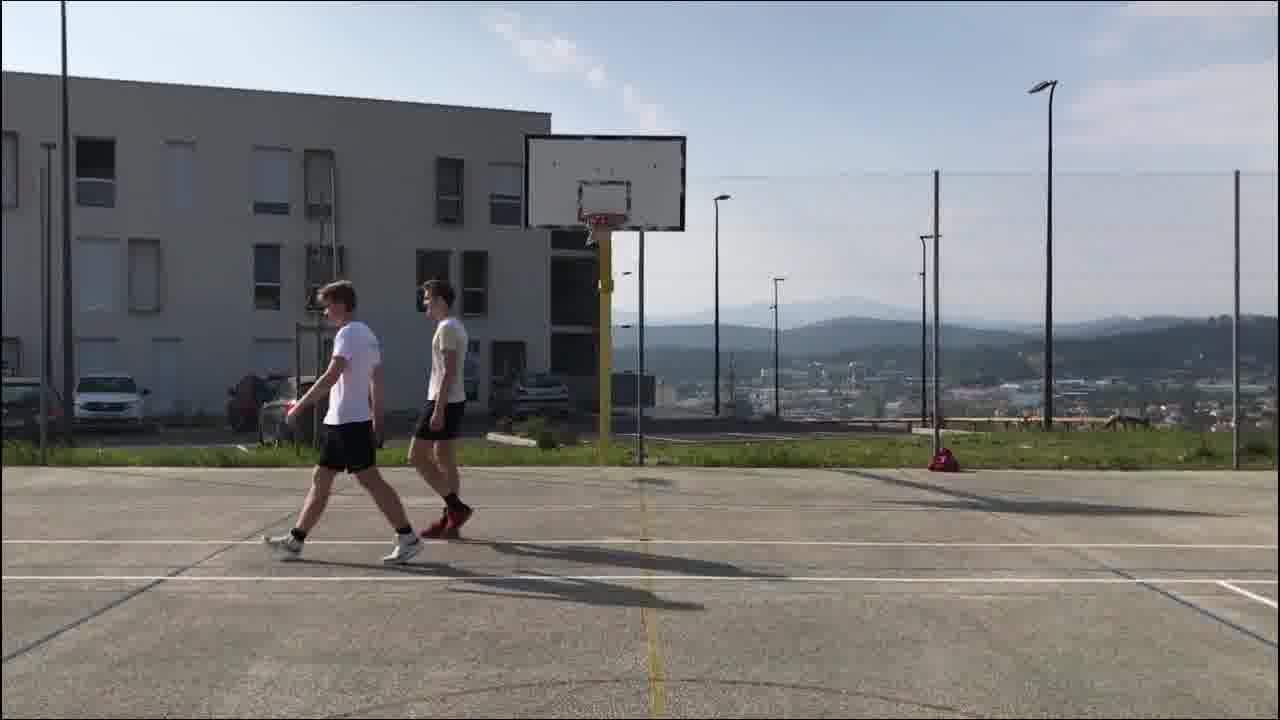jugador: (387, 269, 482, 551)
